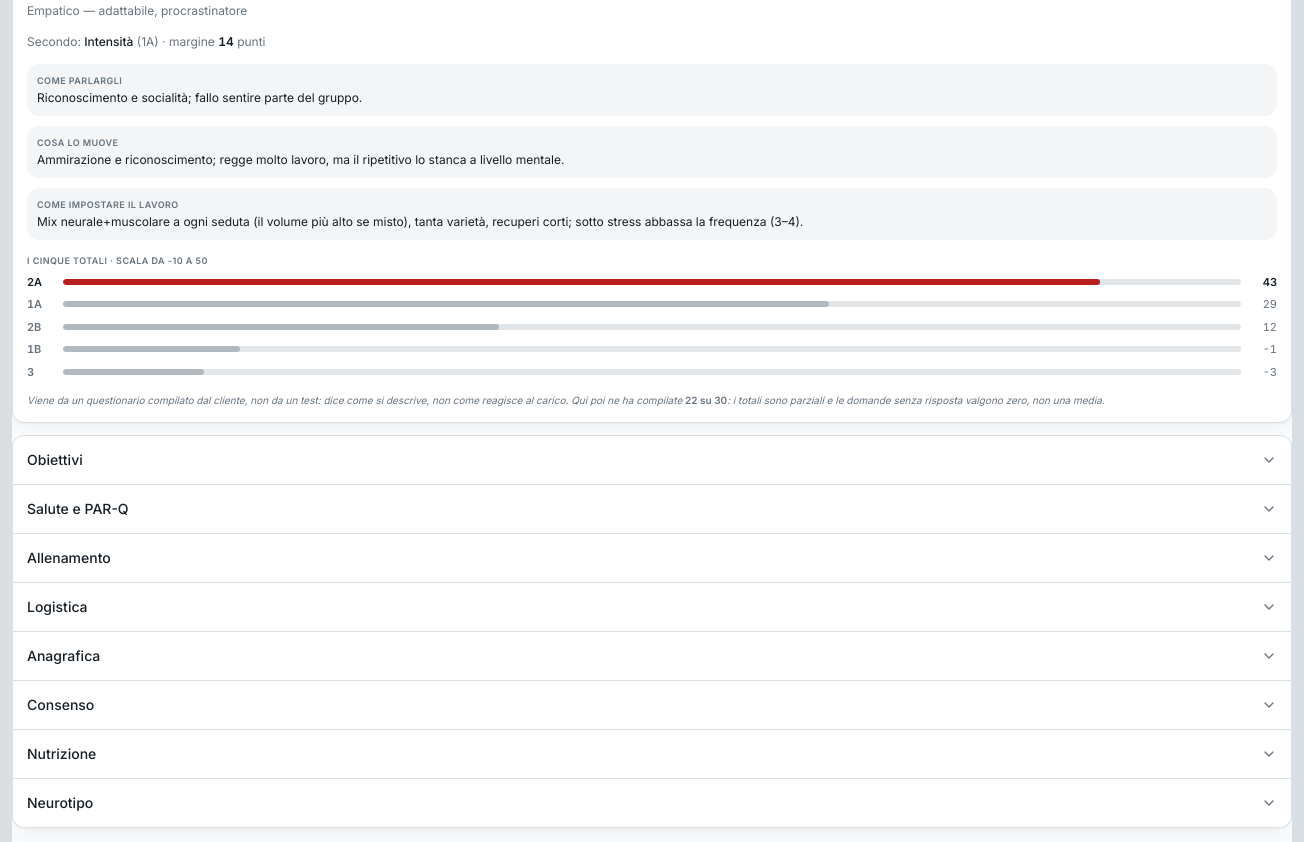
Test: linguetta Intervista — il gruppo Neurotipo dice QUALE dei quattro casi e › presente: dice quante risposte ha letto e dove sta il risultato
Click the button "Neurotipo" at x=60, y=802, box left=13, top=779, right=1291, bottom=827
(page scrolled)
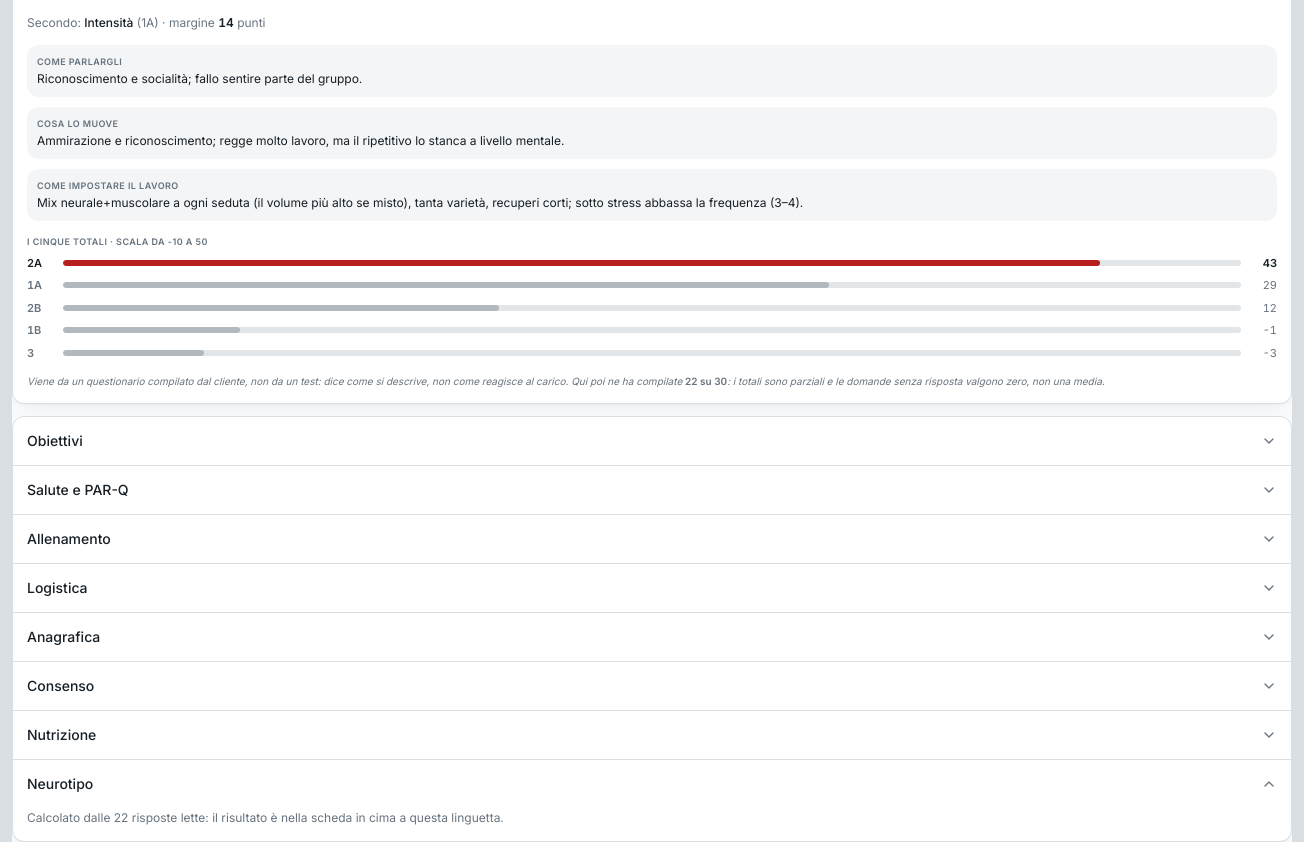
Result: the text "Calcolato dalle 22 risposte lette" is shown at left=27, top=810, right=504, bottom=825
